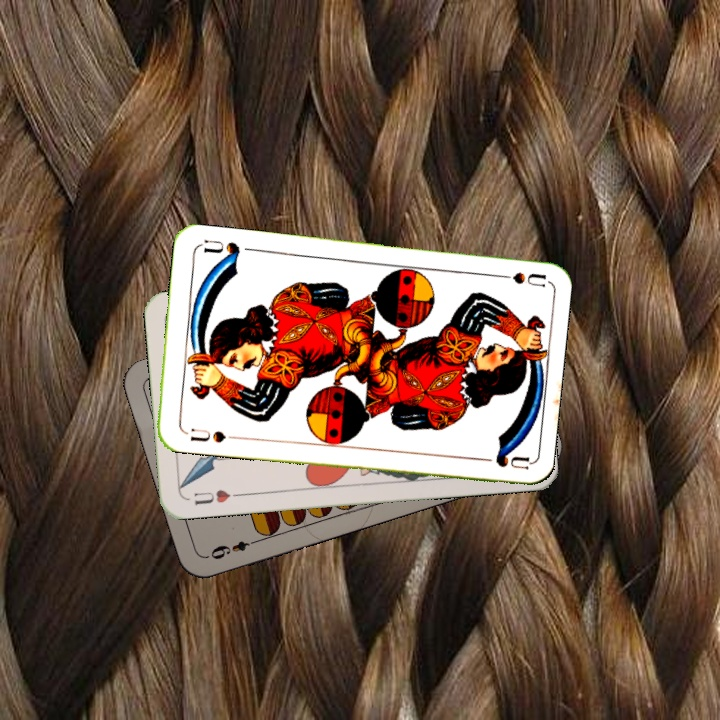E9: (203, 535, 261, 562)
HU: (189, 485, 243, 508)
SU: (487, 268, 546, 290), (186, 424, 228, 446)
